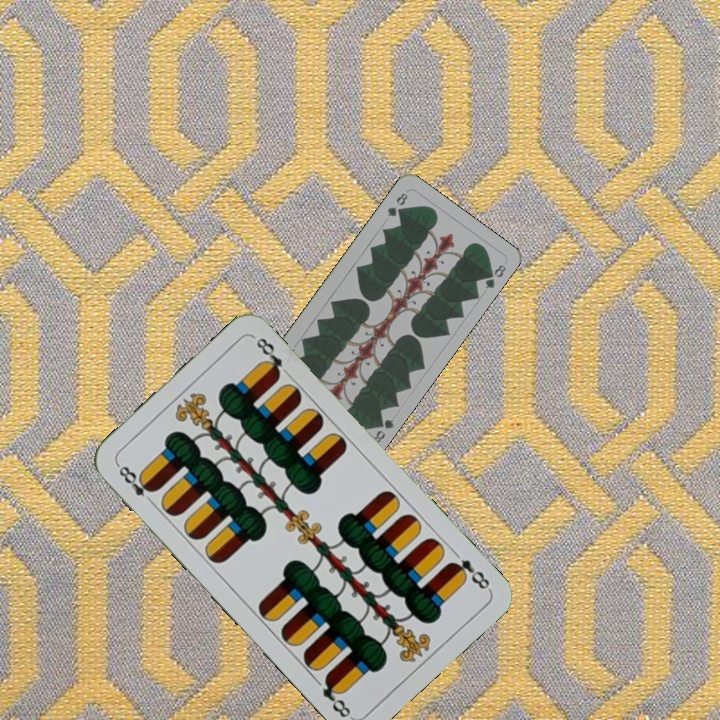E8: (113, 460, 158, 508), (444, 555, 493, 593)
G8: (369, 414, 396, 446), (383, 188, 410, 219)
